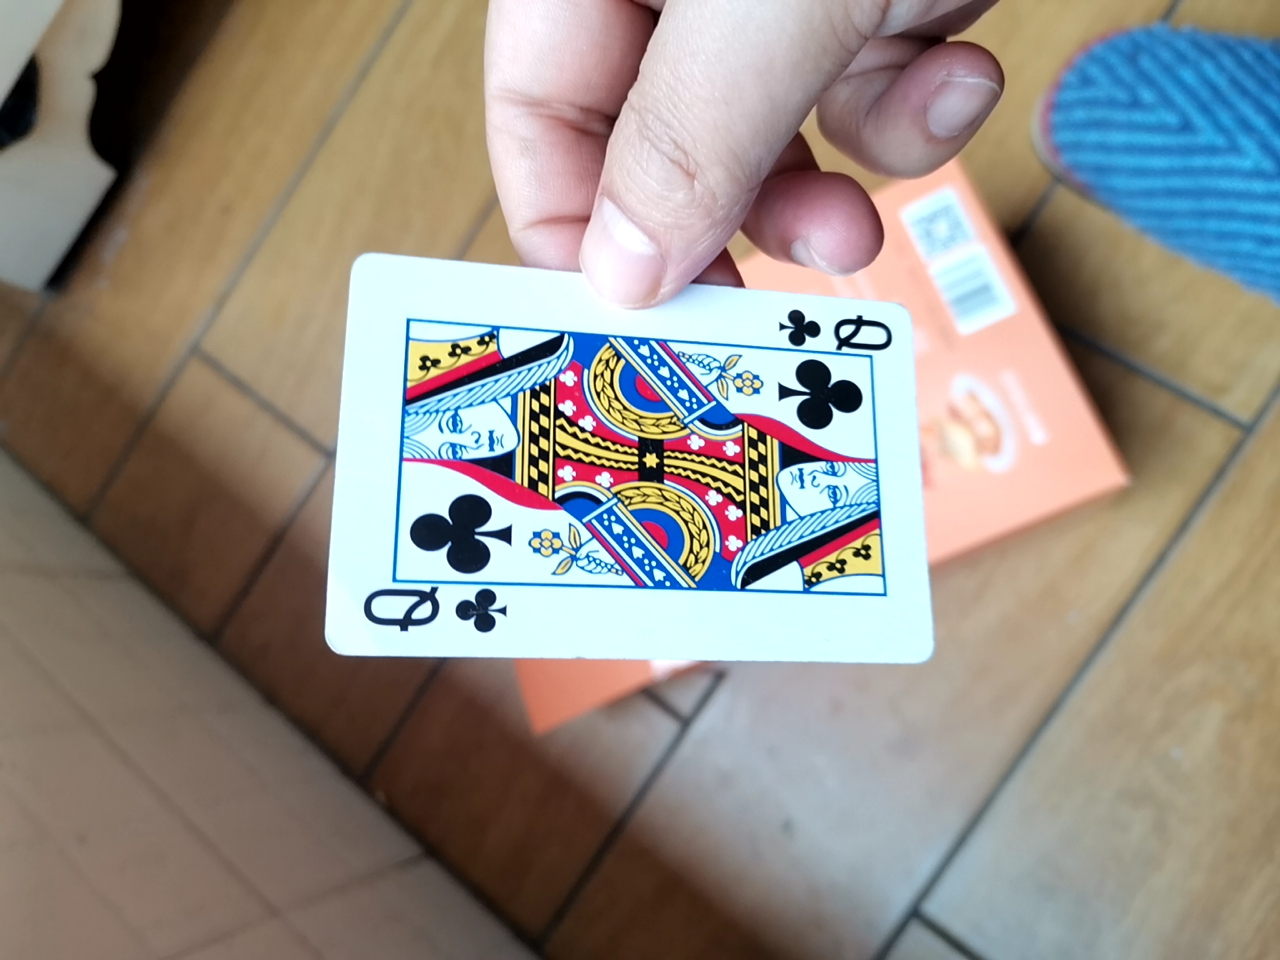mh q: (315, 226, 965, 677)
